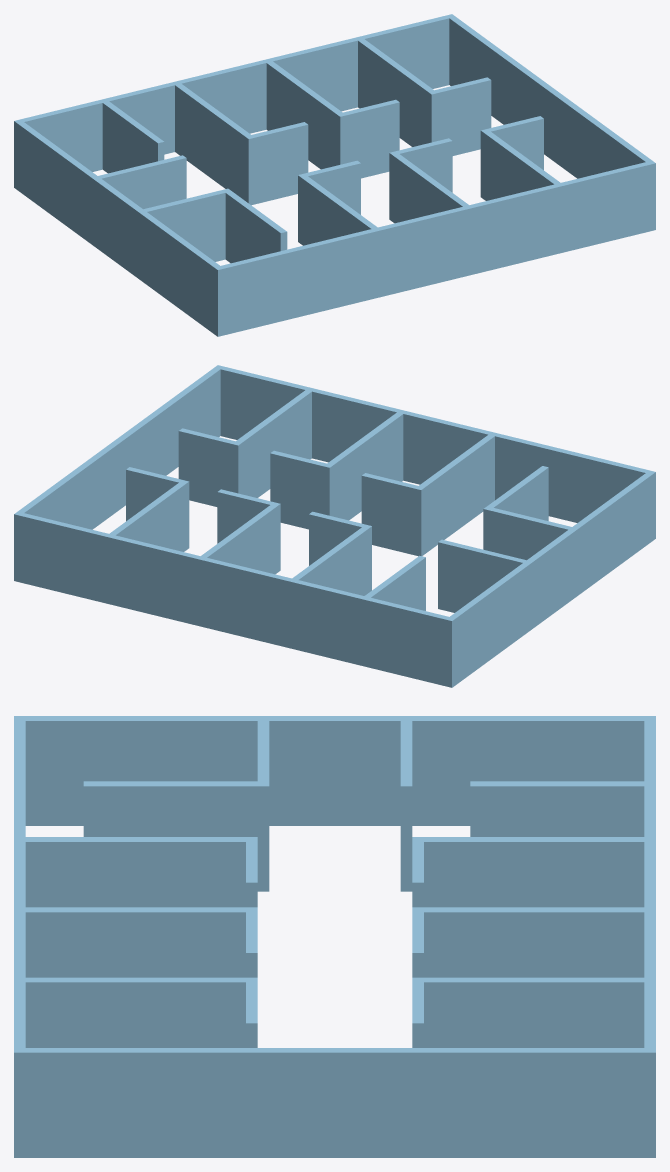
File: enva.dae
The picture shows the model from 3 angles, top to bottom: view 1: azimuth 30°, elevation 25°; view 2: azimuth 150°, elevation 25°; view 3: azimuth 270°, elevation 25°; orthographic projection. The views are drawn at different scales.
Parts seen in each view (by area): view 1: ID2; view 2: ID2; view 3: ID2.
Boxes of the visible parts, box(x1,y1,x2,y2) form: ID2: box(14, 14, 655, 336); ID2: box(14, 365, 655, 687); ID2: box(14, 716, 655, 1157).
Bounding box in the file's own units: 20.6 × 16.6 × 3.
